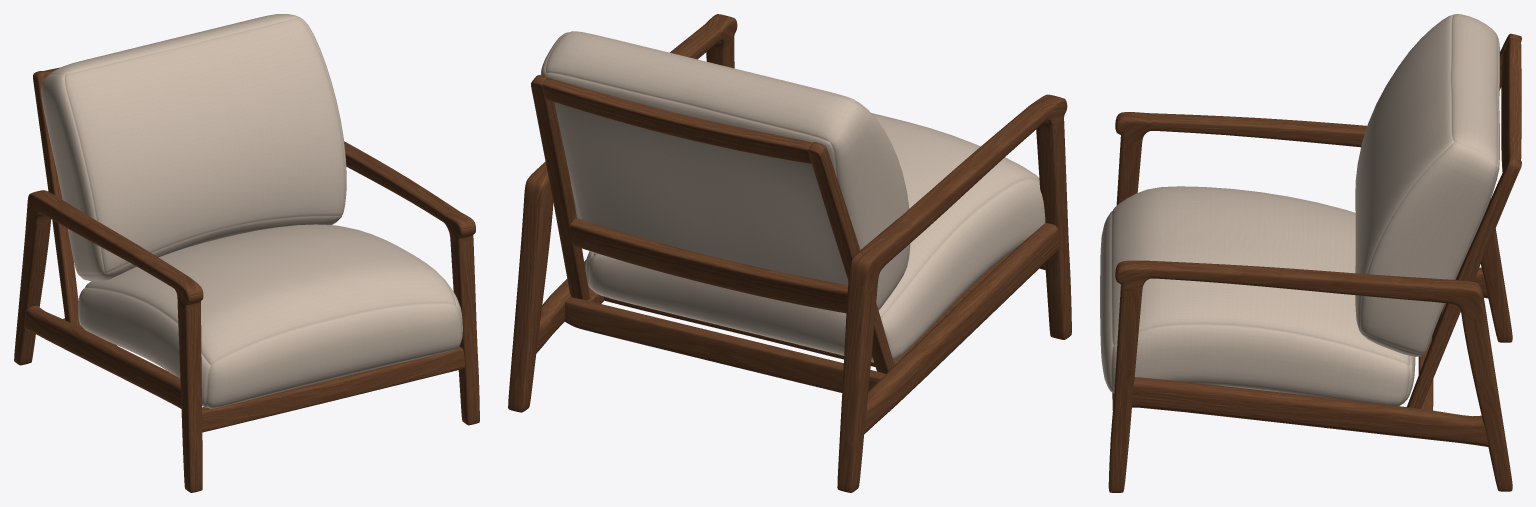
Rendered from lounge-sofa.glb.
The picture shows the model from 3 angles, left to right: view 1: azimuth 30°, elevation 25°; view 2: azimuth 150°, elevation 25°; view 3: azimuth 270°, elevation 25°; orthographic projection. The views are drawn at different scales.
Visible parts, largest first — view 1: mesh; view 2: mesh; view 3: mesh.
Part boxes in pixels (x1,y1,x2,y2): mesh: (14, 14, 479, 492); mesh: (508, 14, 1071, 492); mesh: (1100, 14, 1521, 492).
Bounding box in the file's own units: 0.7263 × 0.7227 × 0.8142.
1 material, 1 textured.
